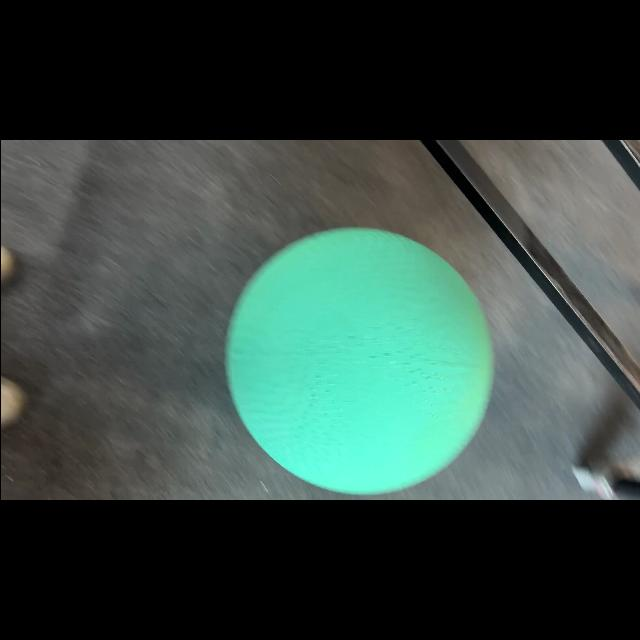ALGAE: (222, 227, 493, 496)
